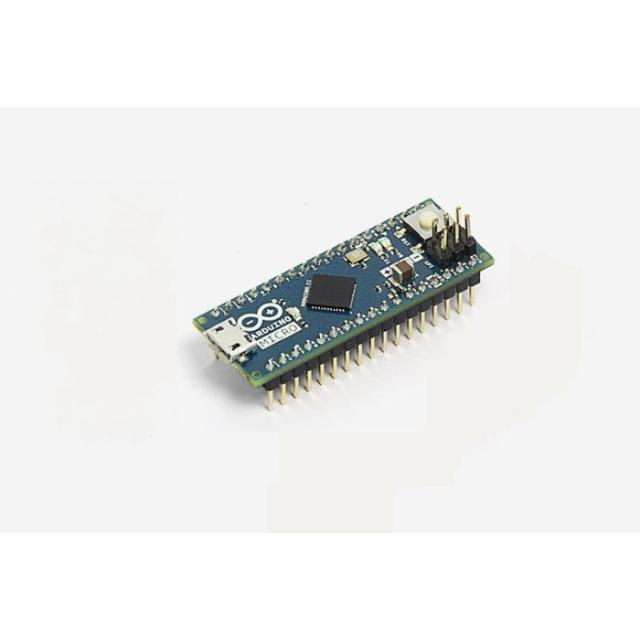Arduino-Micro: (195, 200, 494, 404)
